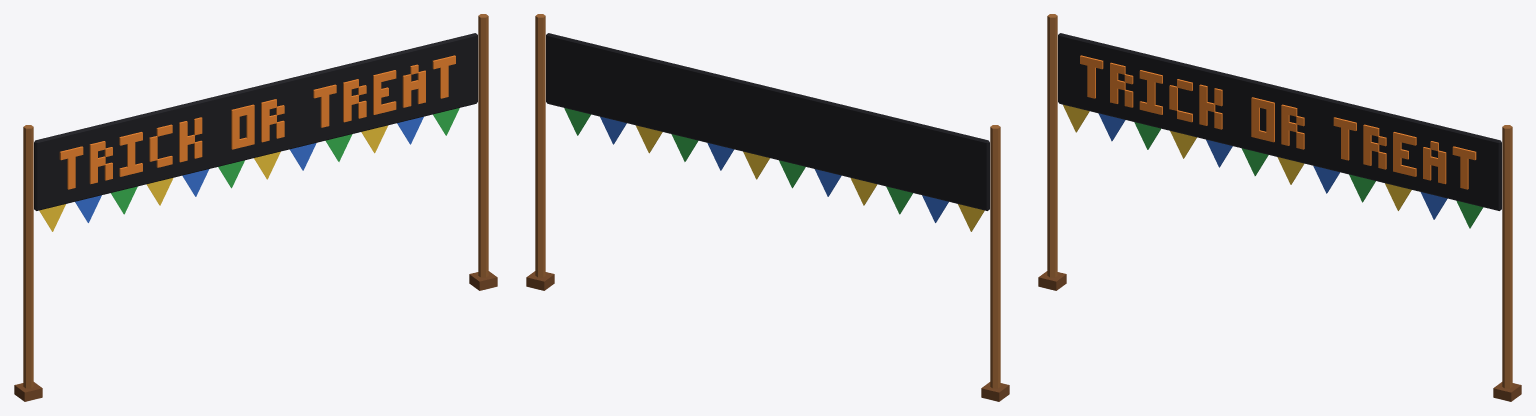
File: TrickOrTreatBanner.fbx
3 views of the same model, side by side, from view 1: azimuth 30°, elevation 25°; view 2: azimuth 150°, elevation 25°; view 3: azimuth 330°, elevation 25° (orthographic).
Visible parts, largest first — view 1: TrickOrTreatBanner; view 2: TrickOrTreatBanner; view 3: TrickOrTreatBanner.
Boxes of the visible parts, x1,y1,x2,y2 form: TrickOrTreatBanner: (14, 14, 497, 401); TrickOrTreatBanner: (526, 14, 1009, 401); TrickOrTreatBanner: (1038, 14, 1521, 401).
Bounding box in the file's own units: 15.85 × 8.62 × 0.6.
1 material, 1 textured.
